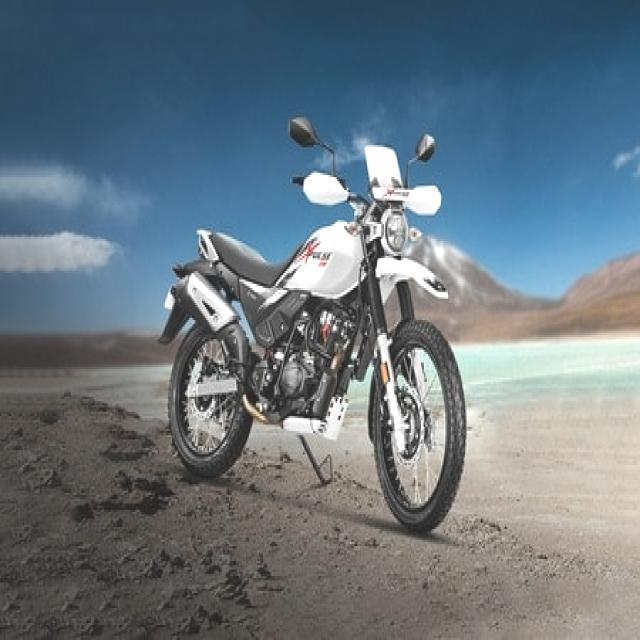MOTORCYCLE: (158, 147, 463, 538)
